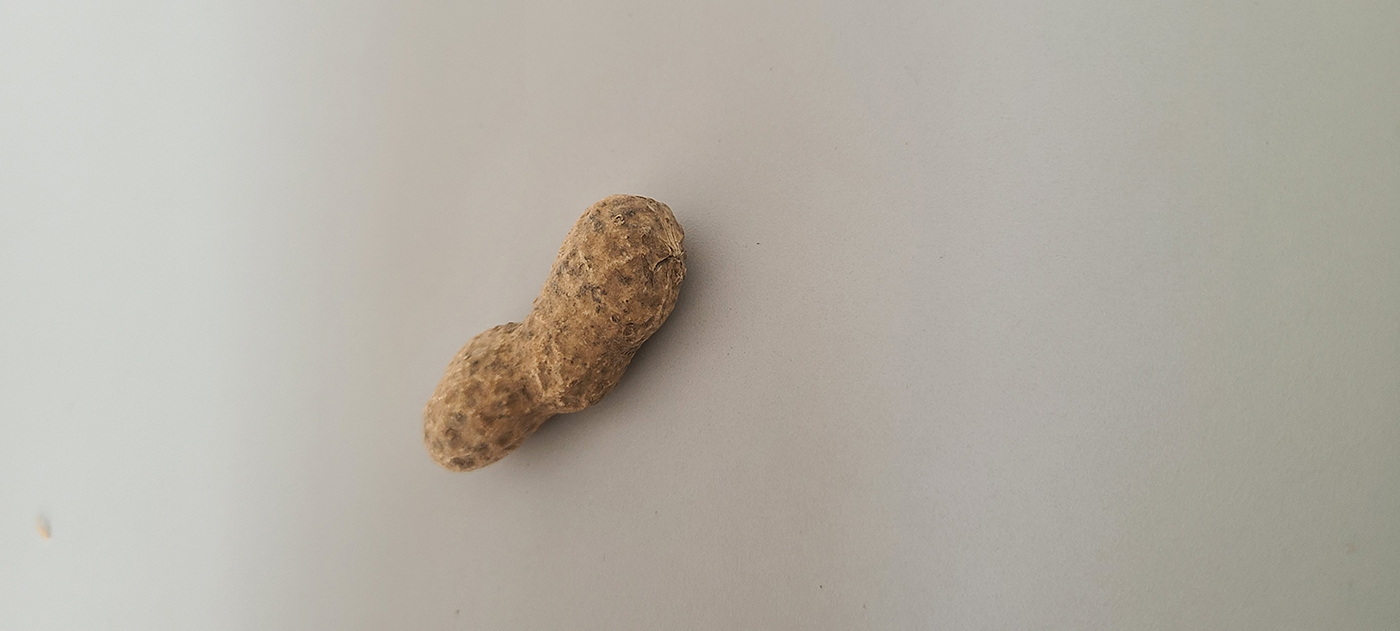h: (420, 194, 689, 477)
